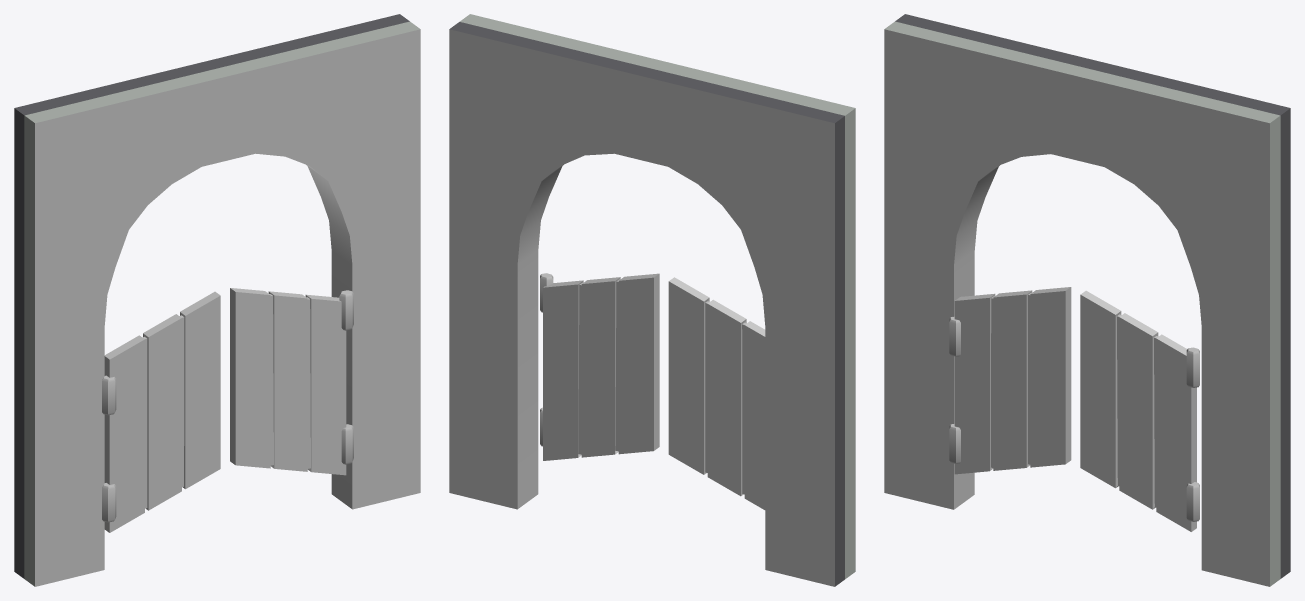
The model's file is Base_Wal_2_opening.fbx.
3 renders of one model, left to right at view 1: azimuth 30°, elevation 25°; view 2: azimuth 150°, elevation 25°; view 3: azimuth 330°, elevation 25°, orthographic.
Visible parts, largest first — view 1: Base_Wal_2_opening, Door_2, Door_1; view 2: Base_Wal_2_opening, Door_2, Door_1; view 3: Base_Wal_2_opening, Door_2, Door_1.
Boxes of the visible parts, x1,y1,x2,y2 form: Base_Wal_2_opening: (14,14,420,586); Door_2: (230,288,353,475); Door_1: (102,291,220,532); Base_Wal_2_opening: (449,14,855,586); Door_2: (540,273,659,460); Door_1: (668,277,765,509); Base_Wal_2_opening: (884,14,1290,586); Door_2: (1080,290,1199,531); Door_1: (949,287,1071,474).
Bounding box in the file's own units: 2.74 × 3.14 × 0.3079.
